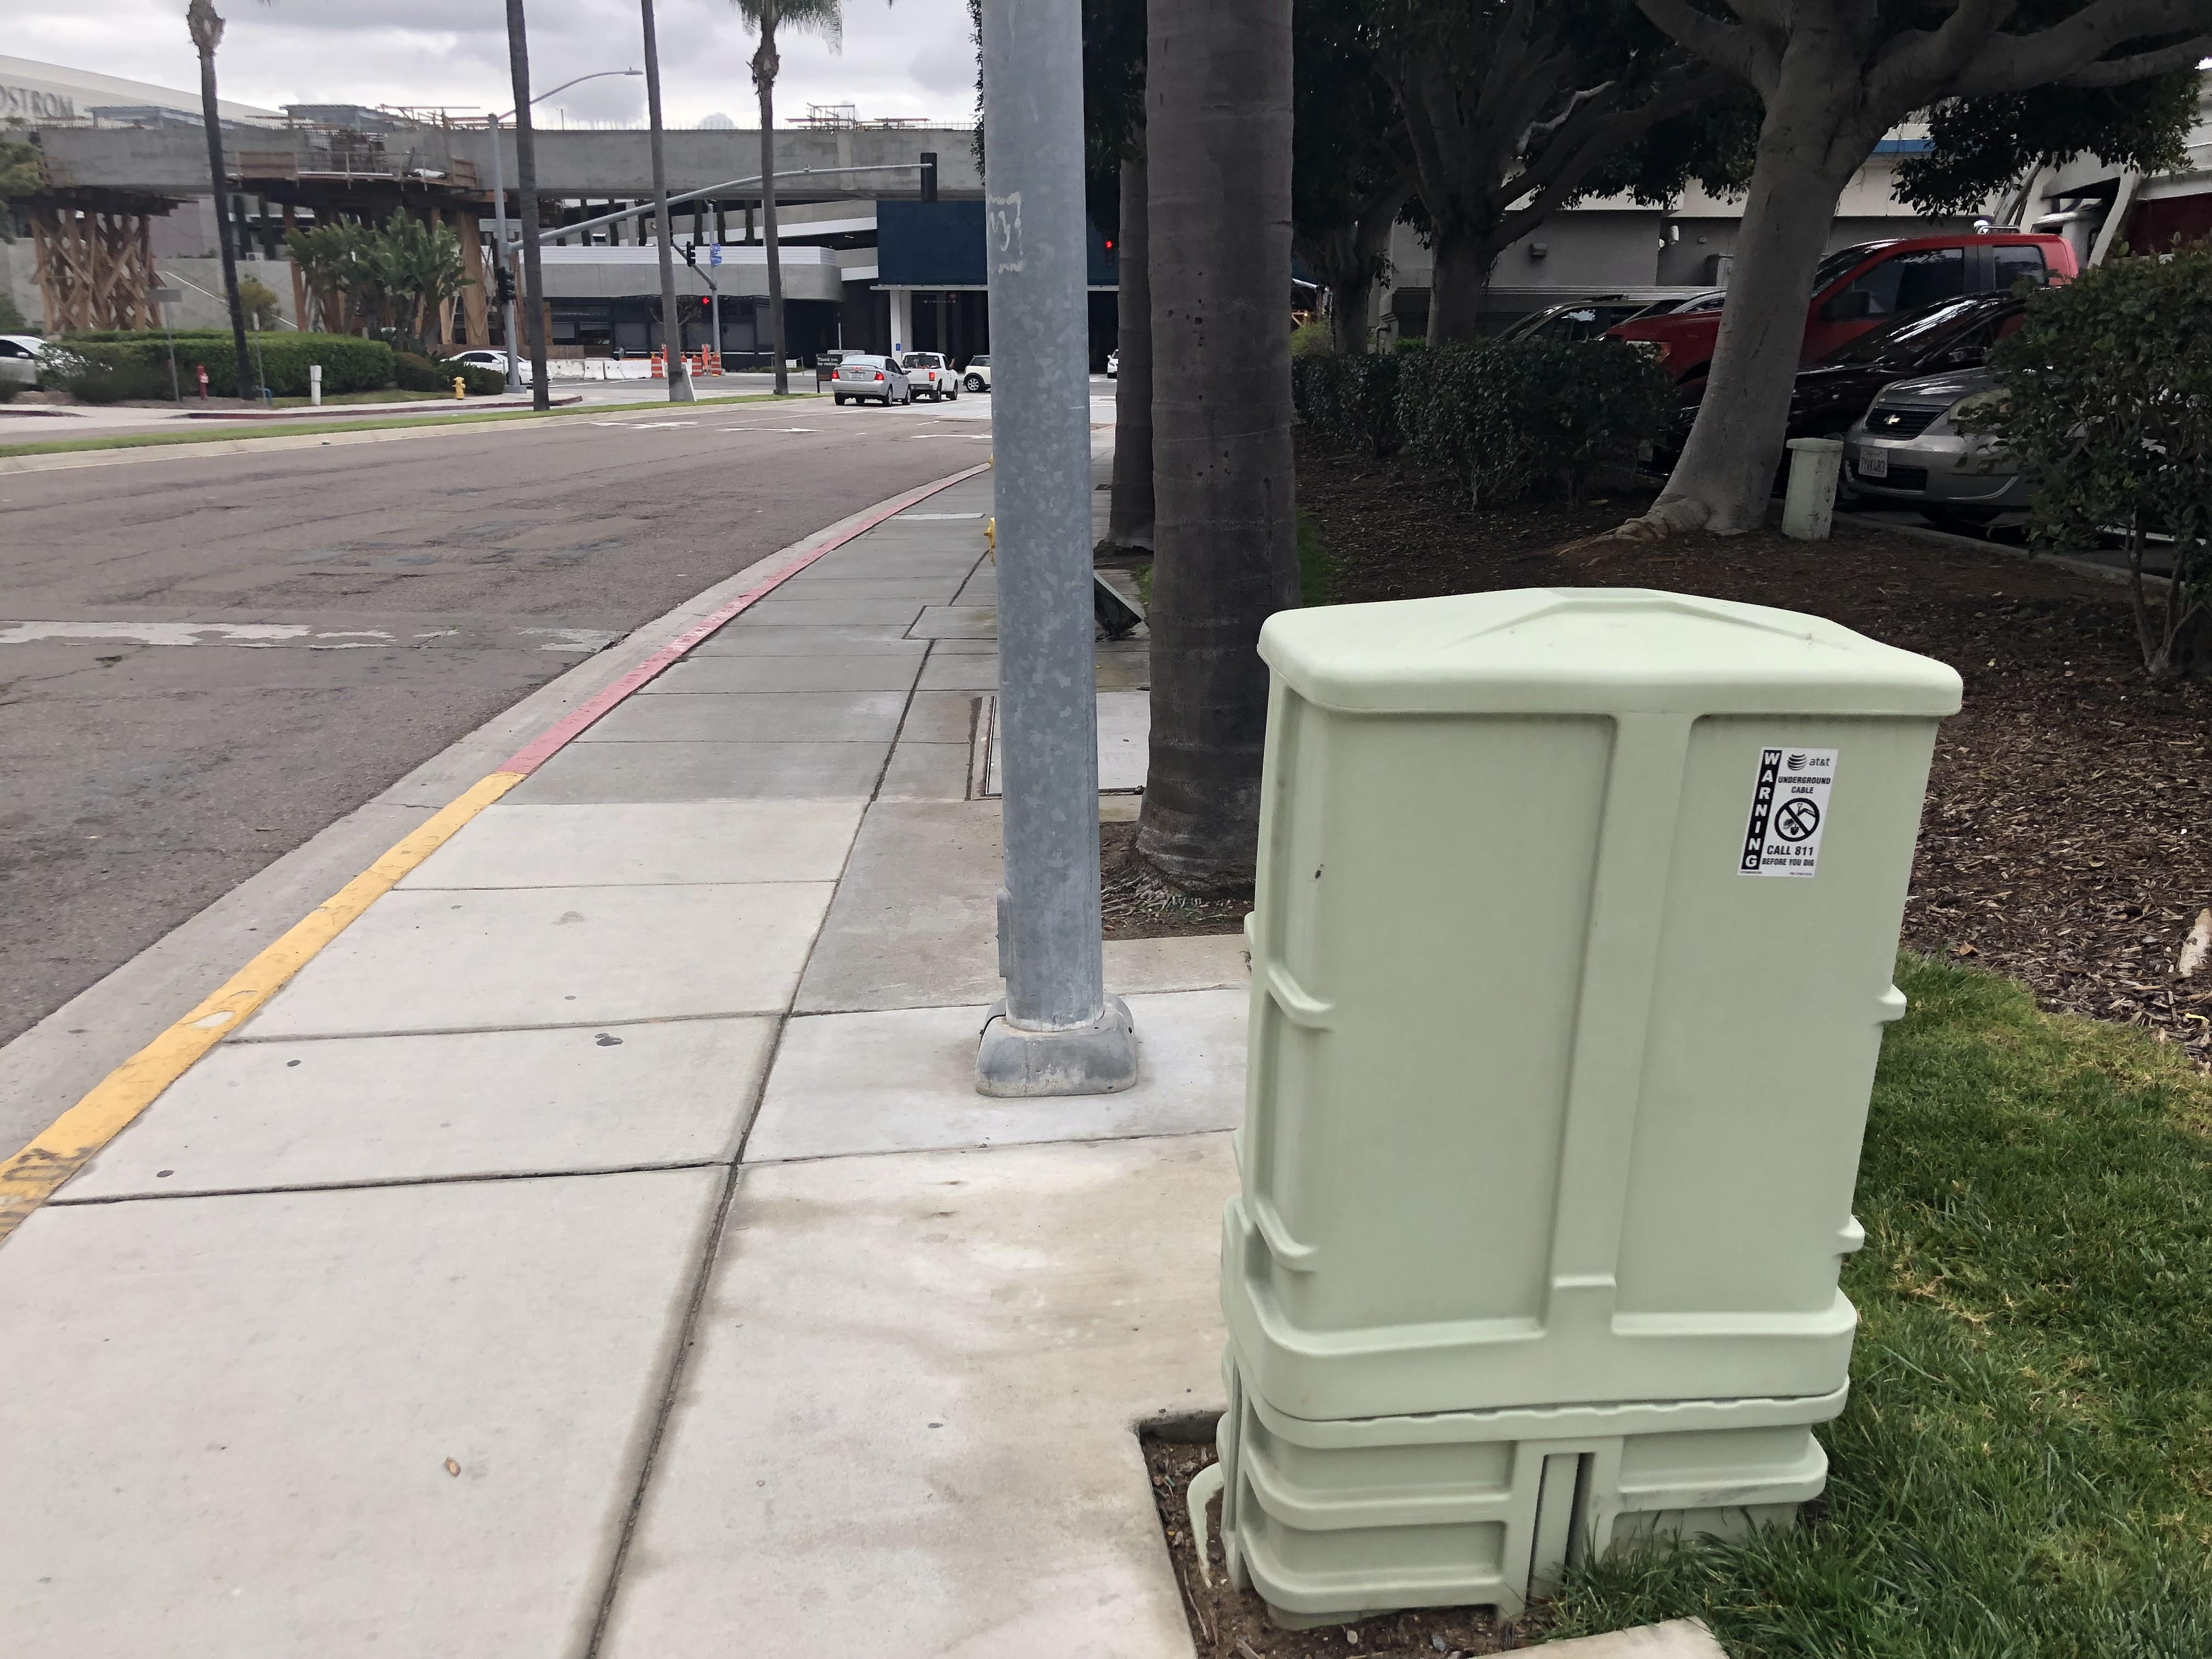Edge: (9, 477, 956, 1168), (1123, 1405, 1627, 1649)
Obstacle: (1219, 610, 1946, 1626), (960, 12, 1146, 1110), (1123, 12, 1306, 939)
